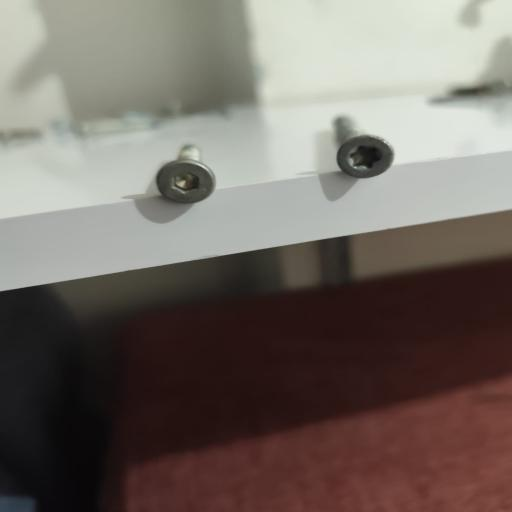Hex-Allen: (158, 157, 214, 206)
Torx: (336, 132, 394, 180)
